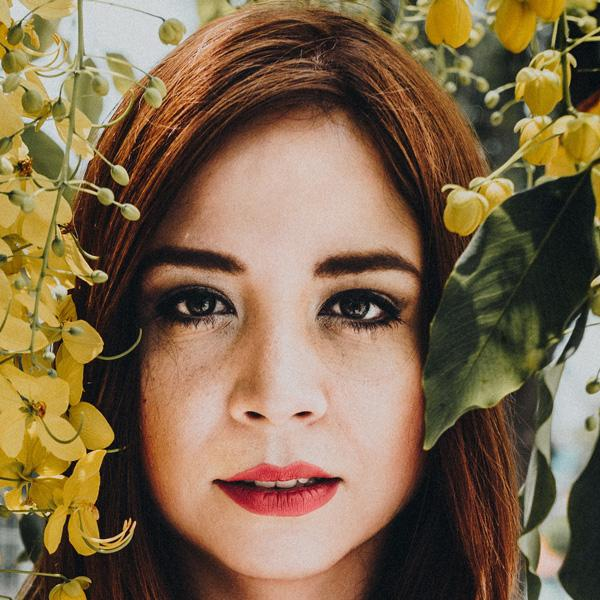Eyes: (308, 276, 415, 342), (148, 274, 243, 336)
